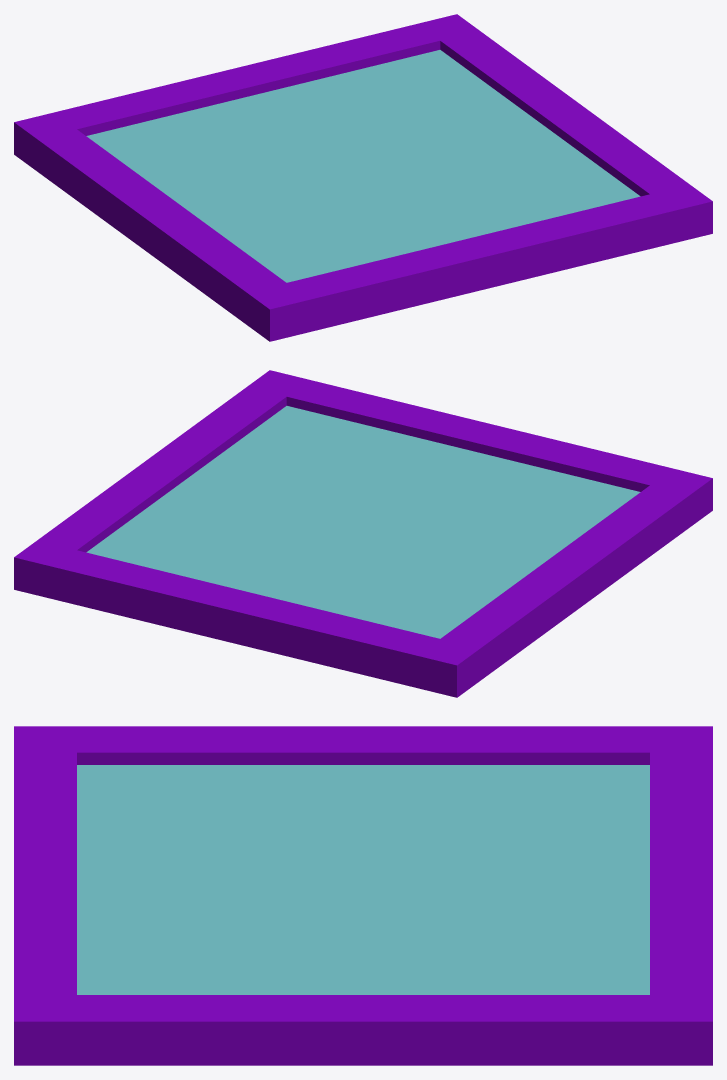
The model's file is FactoryPlat1.fbx.
3 renders of one model, top to bottom at view 1: azimuth 30°, elevation 25°; view 2: azimuth 150°, elevation 25°; view 3: azimuth 270°, elevation 25°, orthographic. The views are drawn at different scales.
Visible parts, largest first — view 1: DangerPlatforms.001; view 2: DangerPlatforms.001; view 3: DangerPlatforms.001.
Part boxes in pixels (x1,y1,x2,y2): DangerPlatforms.001: (14, 14, 712, 341); DangerPlatforms.001: (14, 370, 712, 697); DangerPlatforms.001: (14, 726, 712, 1065).
Size of the model in its own units: 317 by 22.09 by 317.
